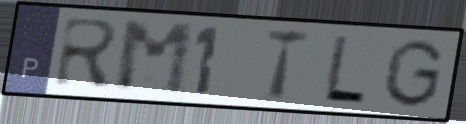1: (191, 25, 221, 98)
G: (379, 37, 448, 110)
L: (318, 32, 370, 107)
M: (113, 20, 196, 98)
R: (51, 14, 123, 90)
T: (262, 26, 314, 103)
